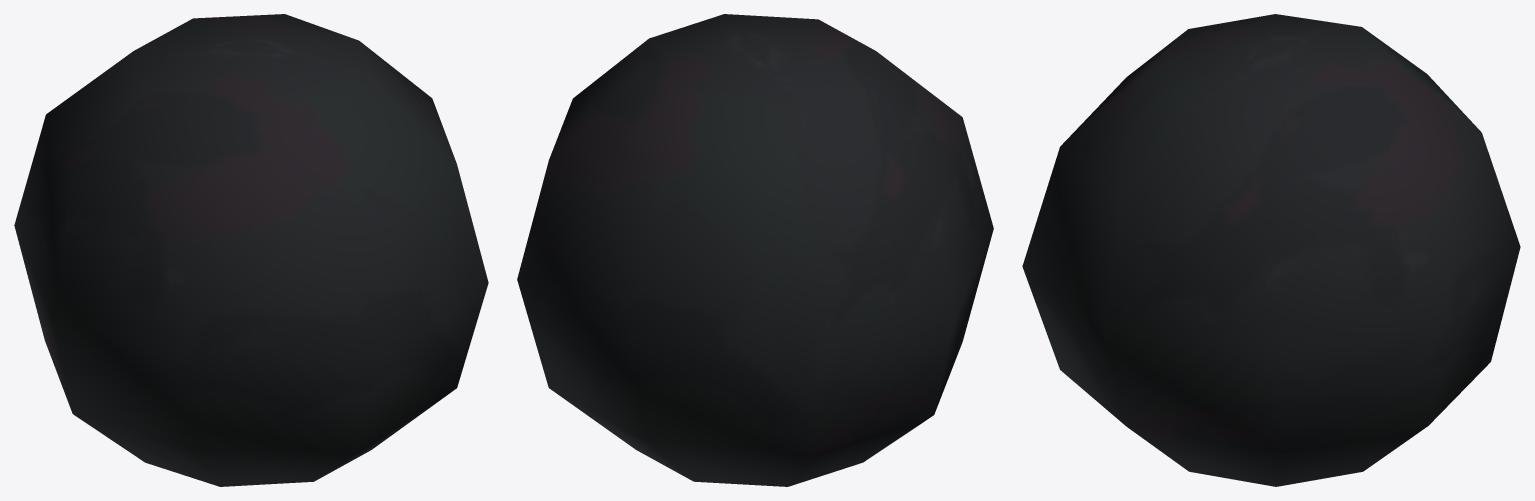
Rendered from SM_PROP_cannonball_battle.fbx.
3 renders of one model, left to right at view 1: azimuth 30°, elevation 25°; view 2: azimuth 150°, elevation 25°; view 3: azimuth 270°, elevation 25°, orthographic.
Visible parts, largest first — view 1: SM_PROP_cannonball_battle; view 2: SM_PROP_cannonball_battle; view 3: SM_PROP_cannonball_battle.
Part boxes in pixels (bbox=[...]): SM_PROP_cannonball_battle: bbox=[14, 14, 488, 486]; SM_PROP_cannonball_battle: bbox=[517, 14, 993, 486]; SM_PROP_cannonball_battle: bbox=[1022, 14, 1520, 486].
Size of the model in its own units: 32 by 31.04 by 34.11.
